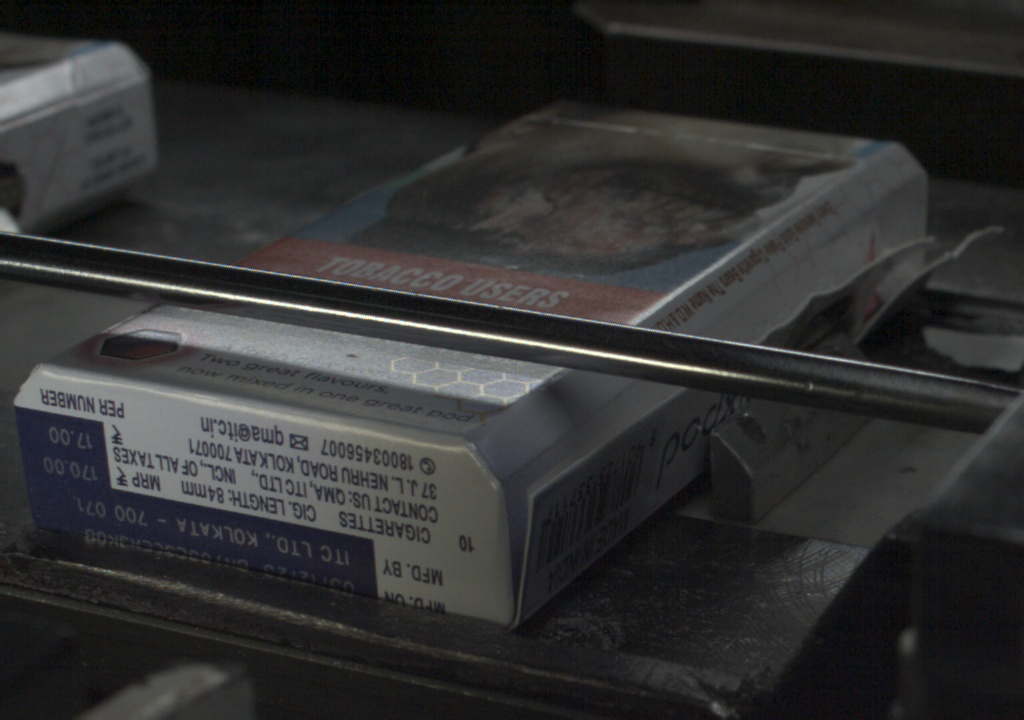g_bottom: (10, 361, 503, 624)
g_label: (22, 488, 376, 599)
ng_lmiter: (511, 440, 575, 592), (728, 276, 804, 340), (590, 383, 664, 440), (811, 247, 879, 306)
ng_miter: (892, 190, 976, 276)
price: (18, 418, 108, 486)
